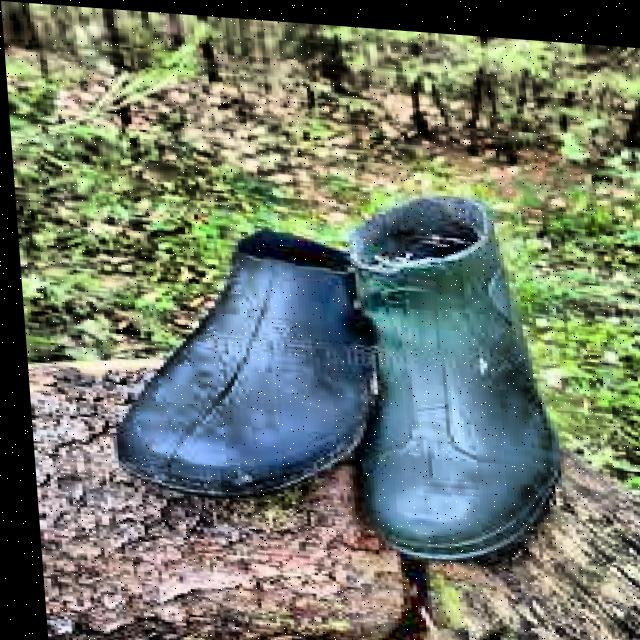shoes: (33, 130, 580, 598)
